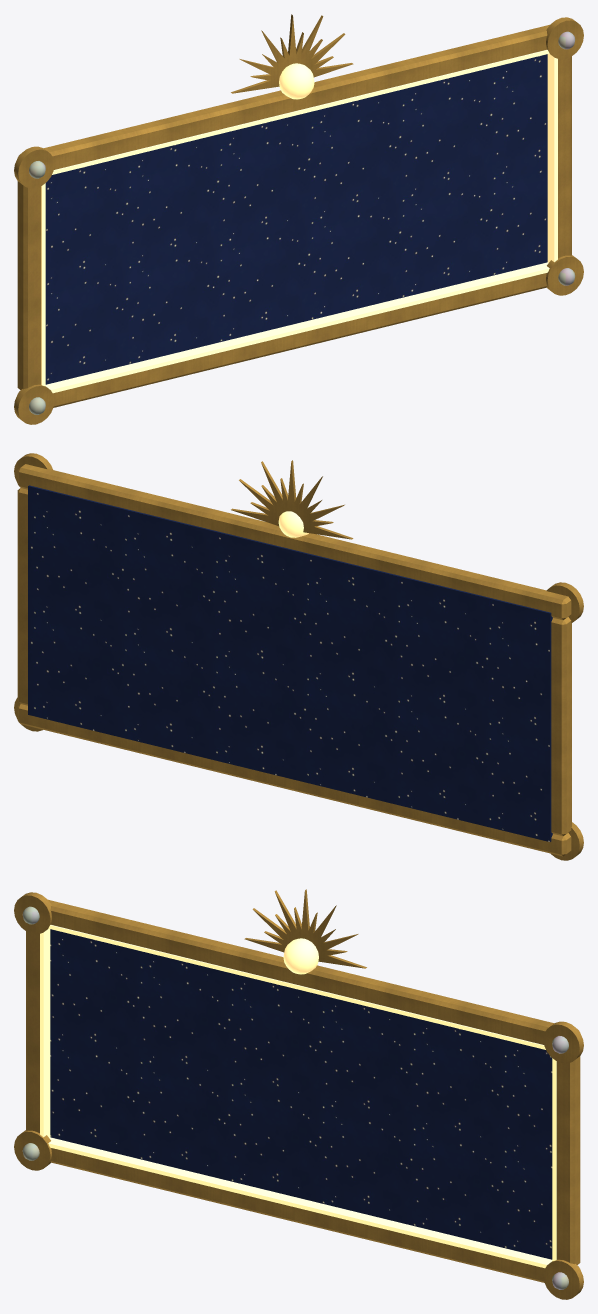
File: lb_board.glb
3 views of the same model, one above another, from view 1: azimuth 30°, elevation 25°; view 2: azimuth 150°, elevation 25°; view 3: azimuth 330°, elevation 25° (orthographic).
Visible parts, largest first — view 1: lb_board; view 2: lb_board; view 3: lb_board.
Boxes of the visible parts, x1,y1,x2,y2 form: lb_board: [14, 14, 583, 424]; lb_board: [14, 453, 583, 860]; lb_board: [14, 889, 583, 1299].
Size of the model in its own units: 9.32 by 5.33 by 0.54.
Materials: 4 (3 with a texture image).
